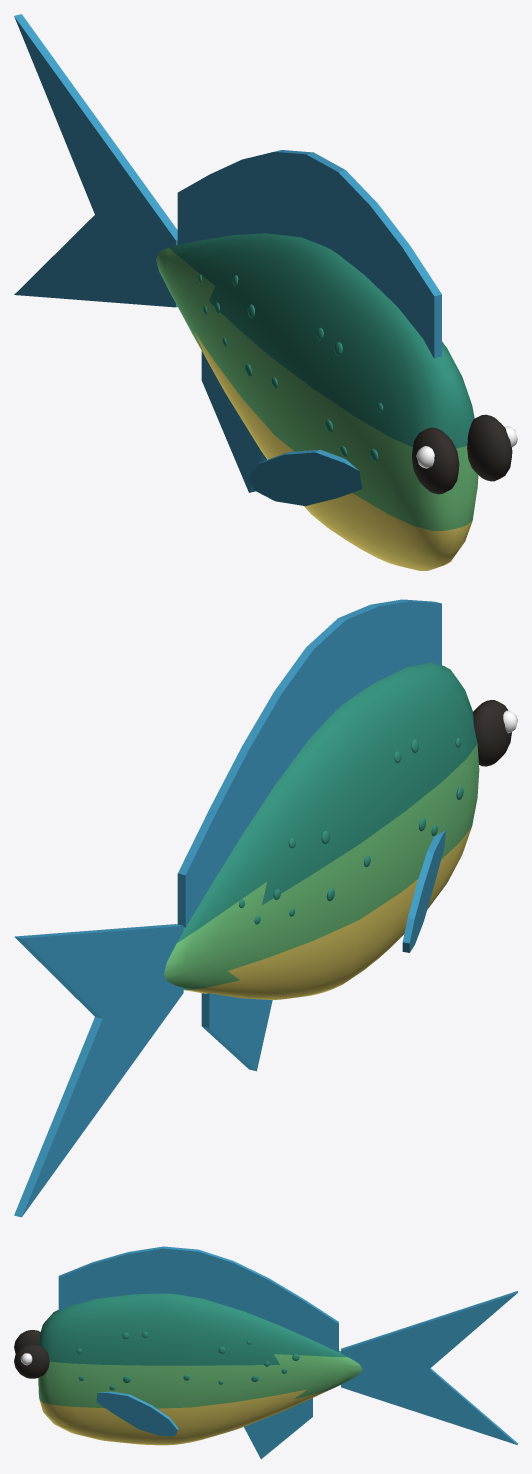
Rendered from fish-mahi-mahi.glb.
The picture shows the model from 3 angles, top to bottom: view 1: azimuth 30°, elevation 25°; view 2: azimuth 150°, elevation 25°; view 3: azimuth 270°, elevation 25°; orthographic projection. The views are drawn at different scales.
Parts seen in each view (by area): view 1: fish; view 2: fish; view 3: fish.
Part boxes in pixels (x1=…): fish: x1=14, y1=14, x2=517, y2=570; fish: x1=14, y1=599, x2=517, y2=1217; fish: x1=14, y1=1246, x2=517, y2=1459.
Bounding box in the file's own units: 0.1237 × 0.2838 × 0.6144.
